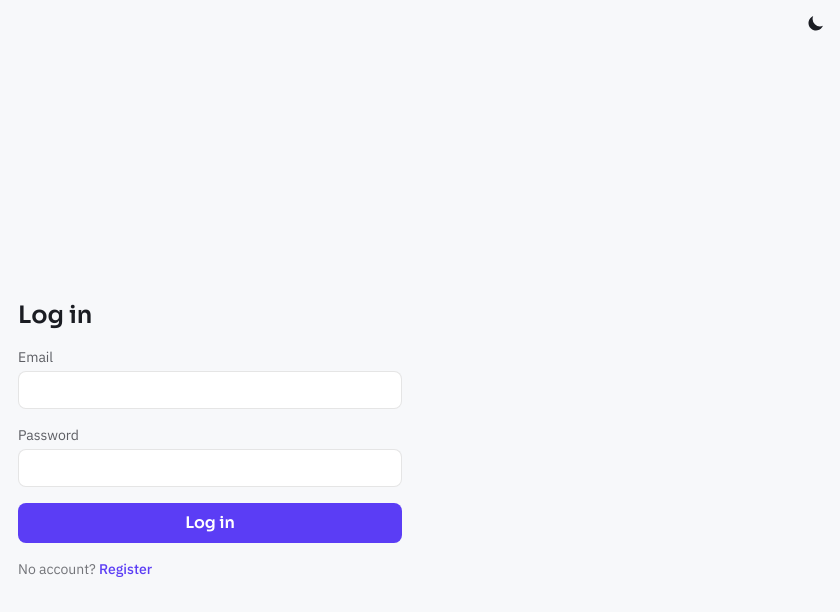
Test: LoginPage › shows an error message when login fails
In the field labelled "Email": (210, 390) [18,371,402,409], type "alice@example.com"
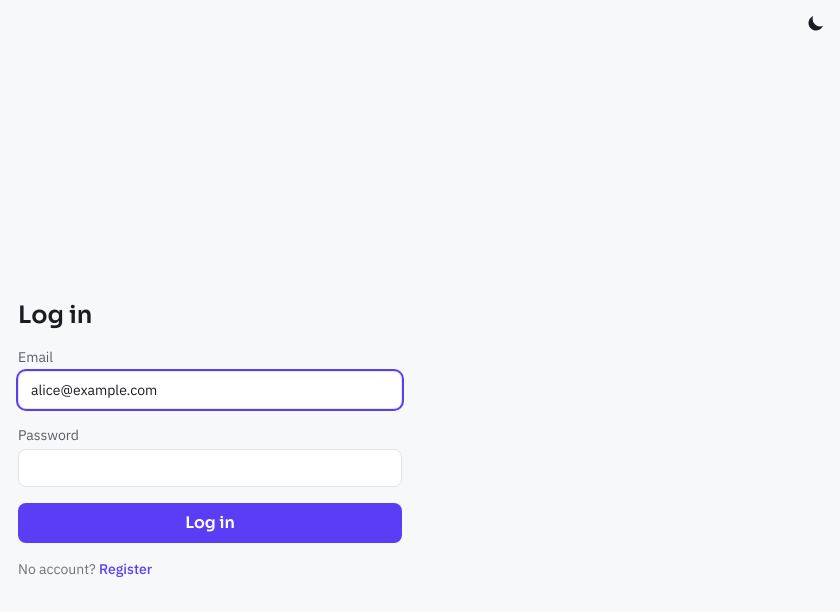
In the password field labelled "Password": (210, 468) [18,449,402,487], type "wrong"
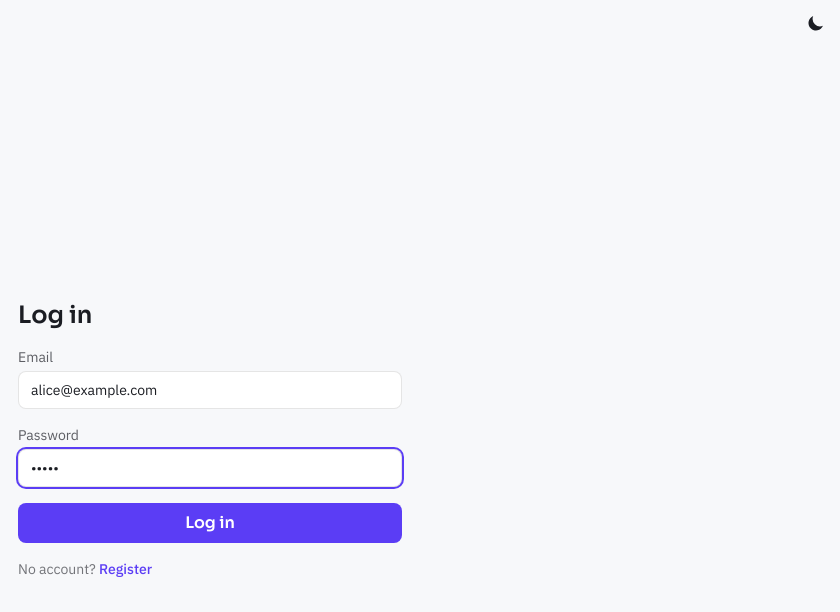
Click the button "Log in": (210, 523) [18,503,402,543]
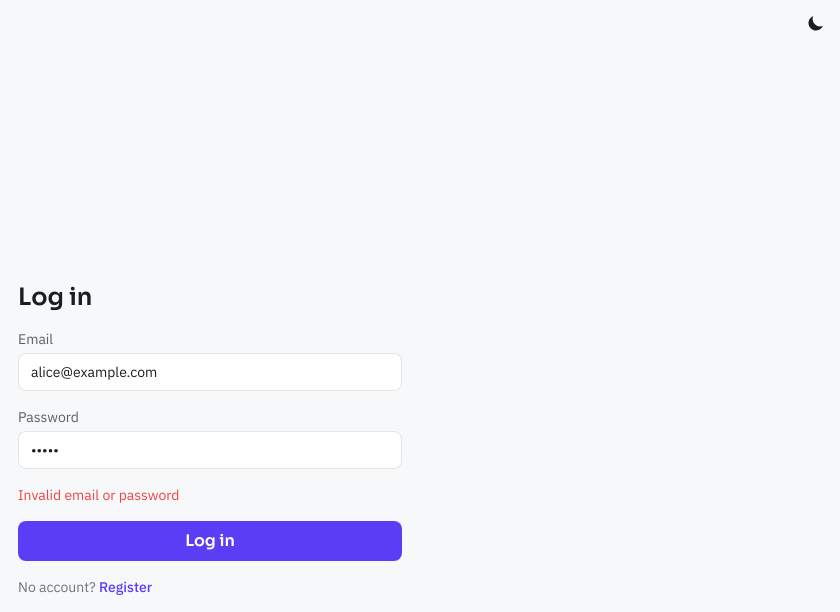
Check: the text "Invalid email or password" is shown, box [18,486,179,504]
